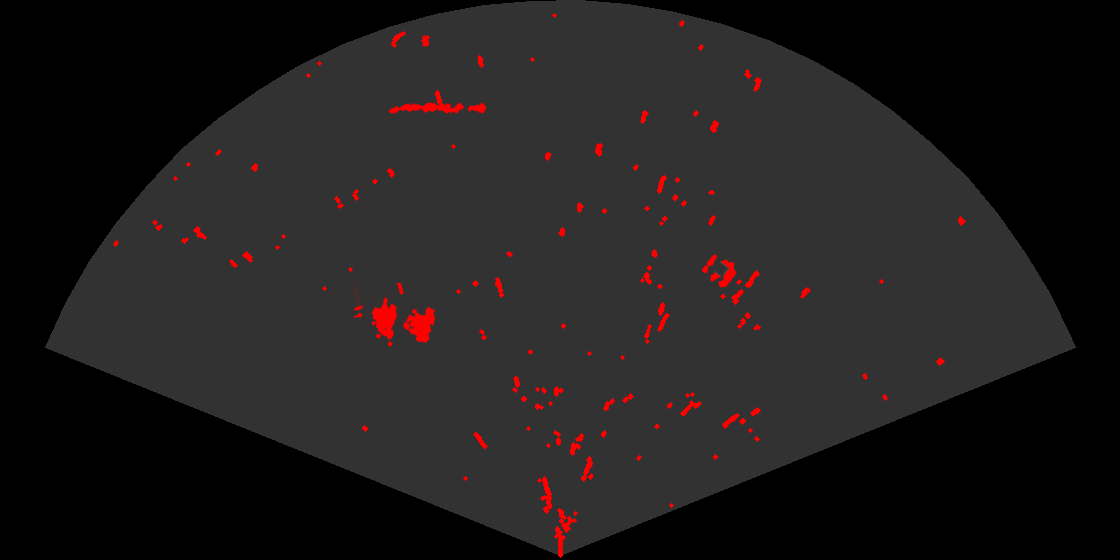ball: (700, 253, 738, 289)
cage: (354, 283, 437, 348)
chain: (387, 101, 488, 115)
